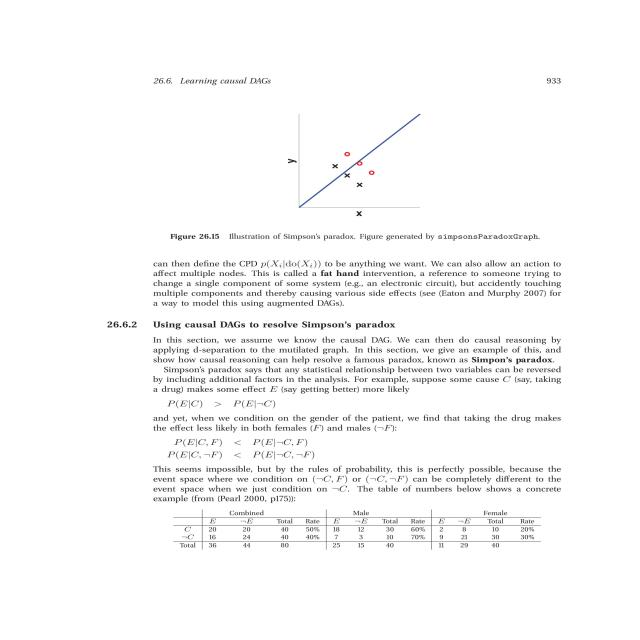diagram: (99, 98, 600, 254)
